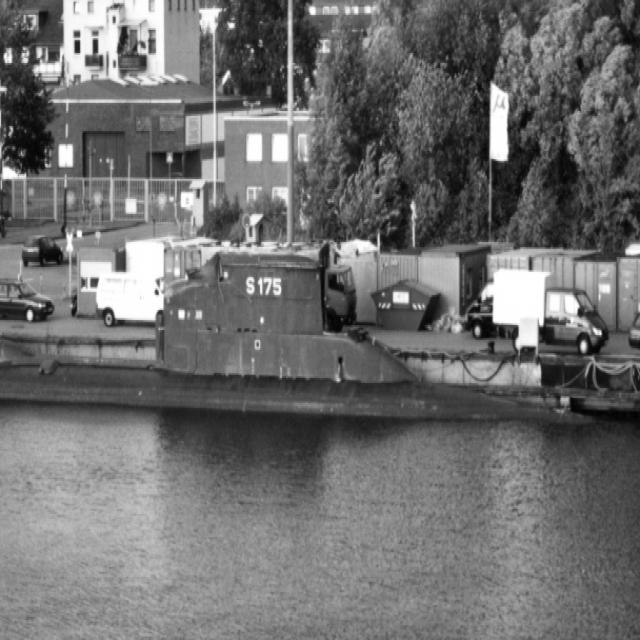submarine: (1, 253, 598, 419)
